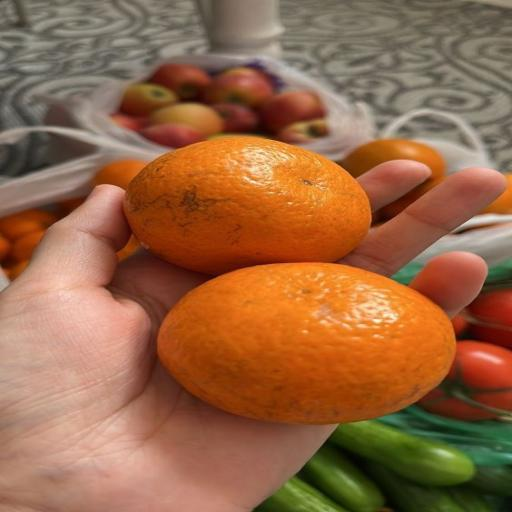orange: (163, 257, 464, 423), (127, 139, 386, 272)
